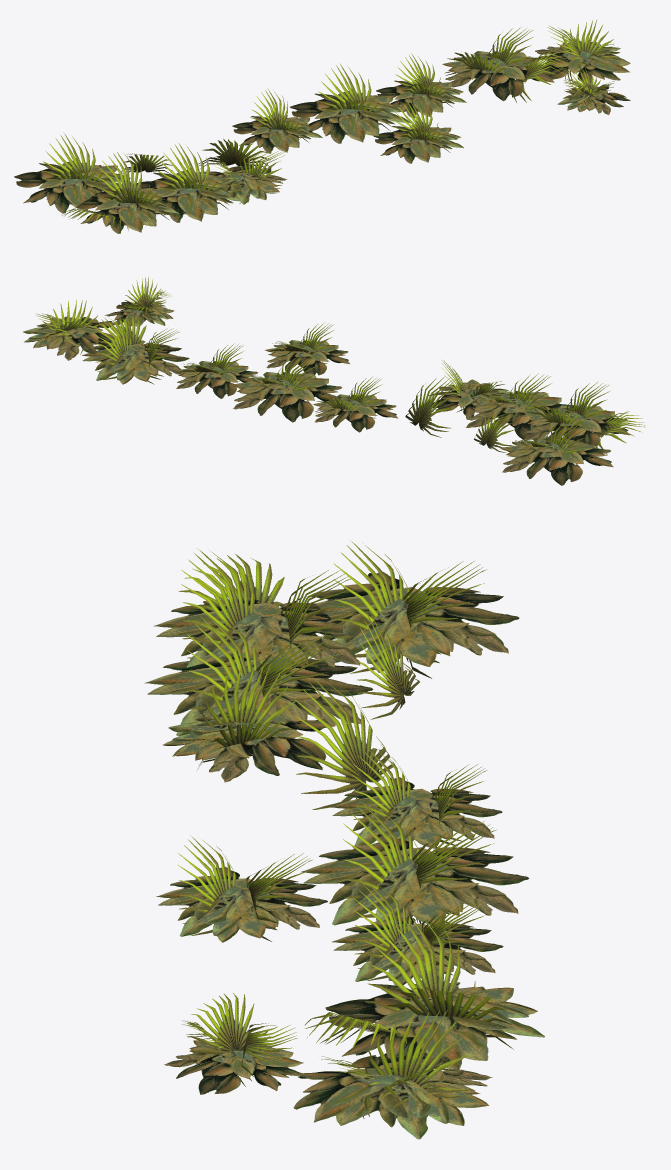
Rendered from Emb_BalconyPlanter_Plants_01.FBX.
3 views of the same model, one above another, from view 1: azimuth 30°, elevation 25°; view 2: azimuth 150°, elevation 25°; view 3: azimuth 270°, elevation 25° (orthographic). The views are drawn at different scales.
Visible parts, largest first — view 1: Emb_BalconyPlanter_Plants_01; view 2: Emb_BalconyPlanter_Plants_01; view 3: Emb_BalconyPlanter_Plants_01.
Part boxes in pixels (left/top/right/bottom): Emb_BalconyPlanter_Plants_01: left=14, top=19, right=630, bottom=233; Emb_BalconyPlanter_Plants_01: left=23, top=277, right=645, bottom=485; Emb_BalconyPlanter_Plants_01: left=144, top=541, right=544, bottom=1139.
Size of the model in its own units: 5.01 by 0.4655 by 1.71.
